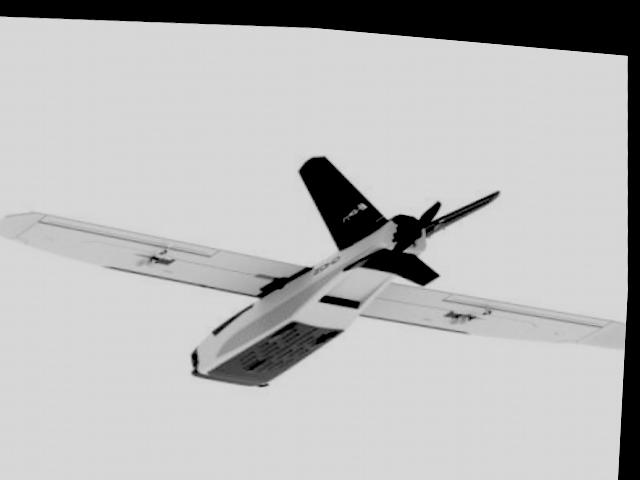uav: (0, 110, 636, 426)
